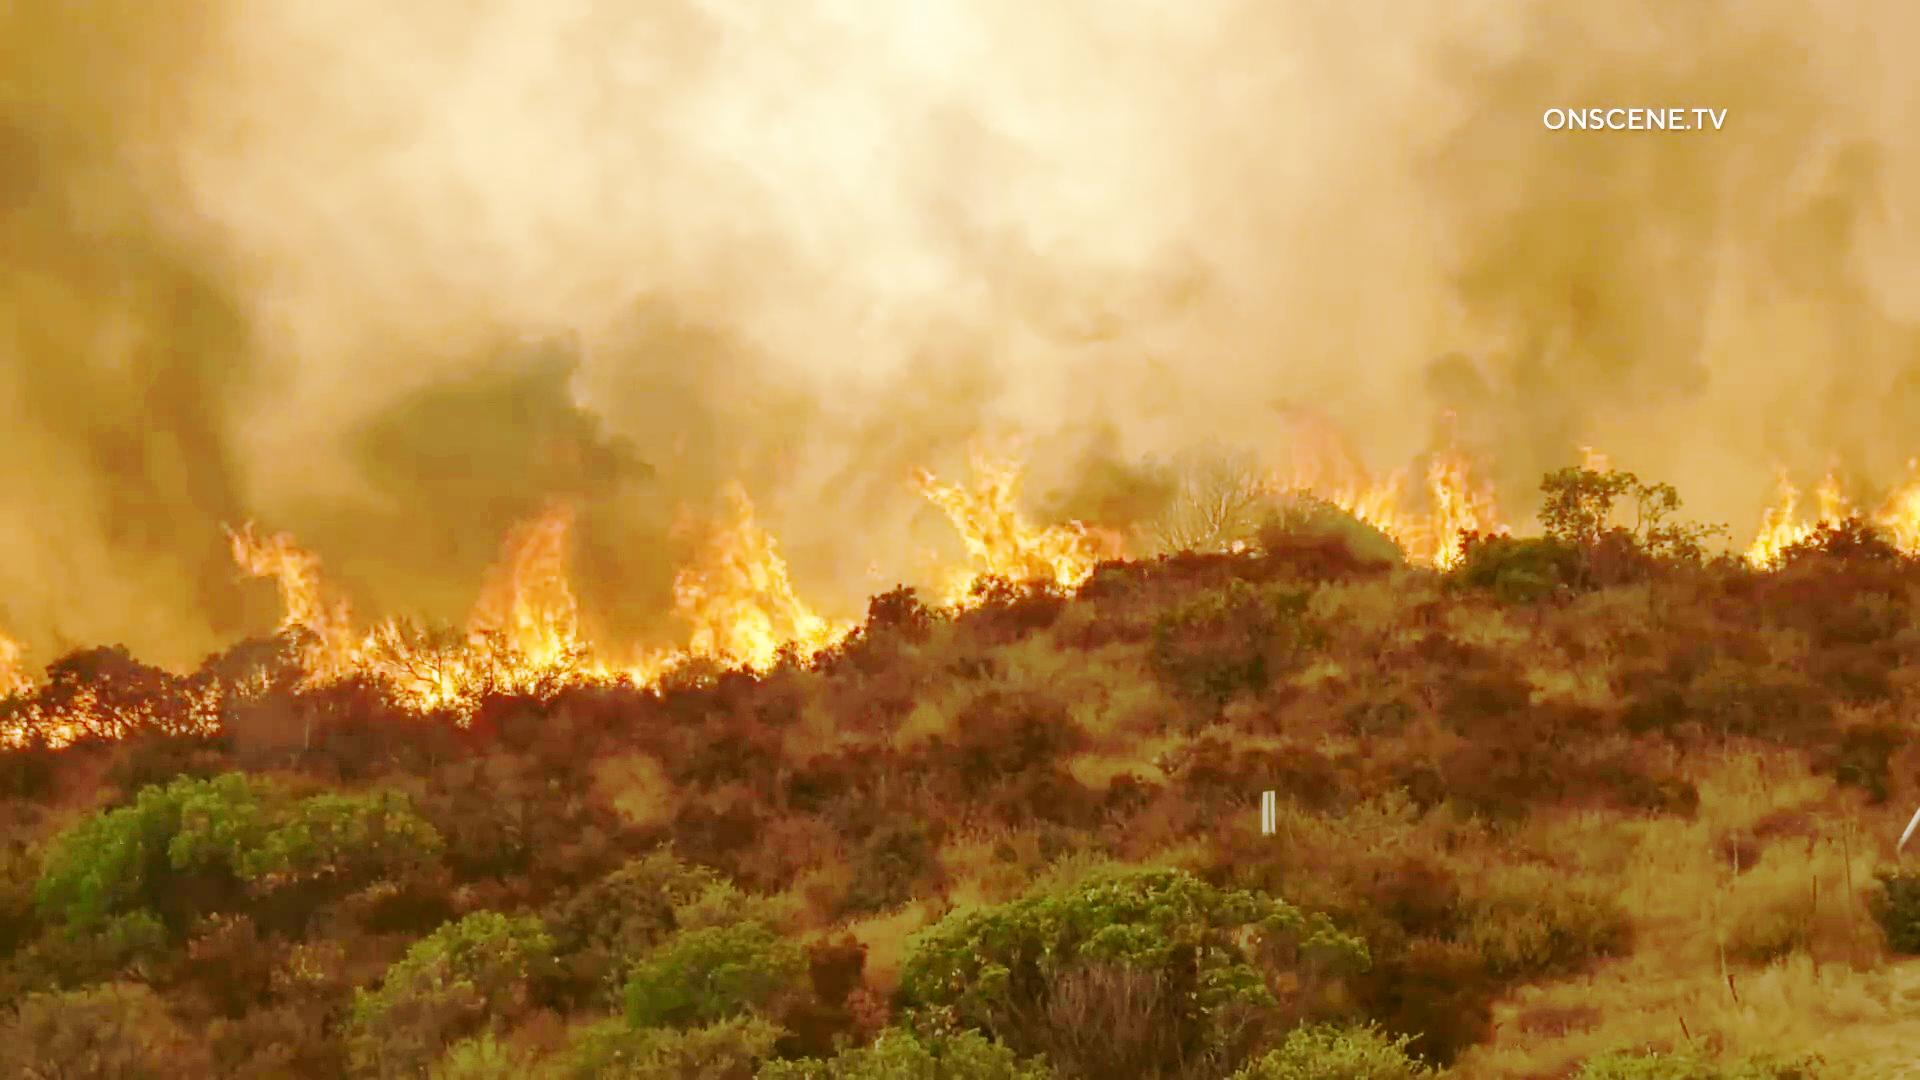fire: (203, 510, 624, 735), (1266, 382, 1499, 588), (655, 485, 876, 691), (920, 433, 1121, 608), (1721, 438, 1920, 576)
smoke: (0, 22, 293, 487), (373, 262, 669, 488)
